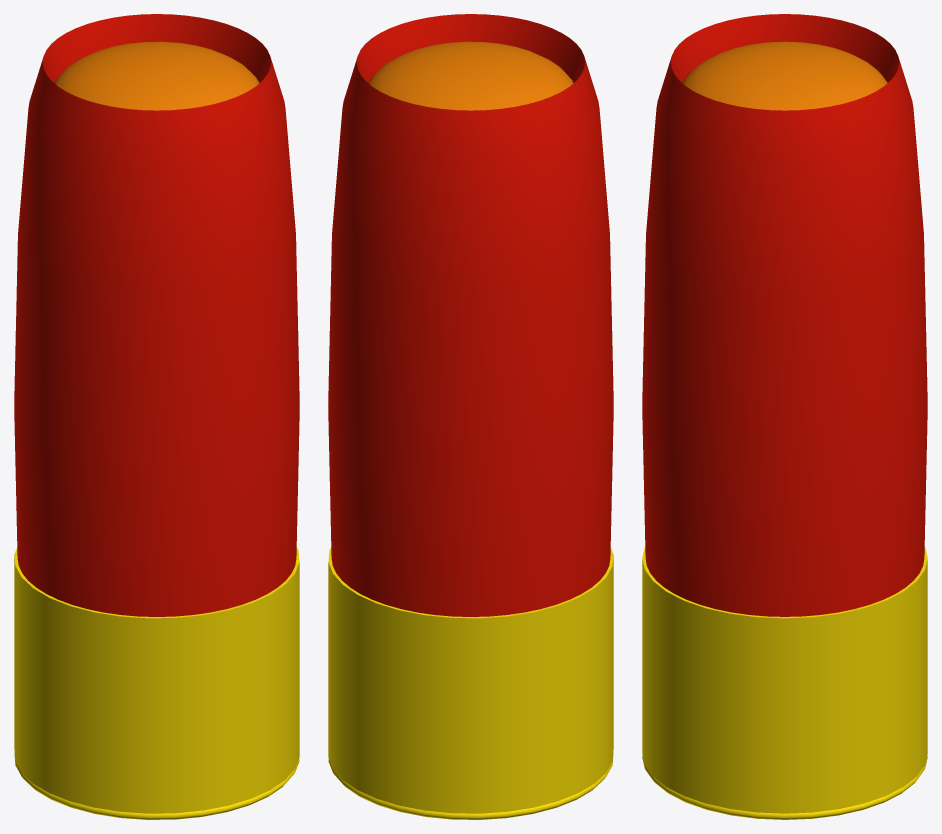
Rendered from single 12 gauge.glb.
The picture shows the model from 3 angles, left to right: view 1: azimuth 30°, elevation 25°; view 2: azimuth 150°, elevation 25°; view 3: azimuth 270°, elevation 25°; orthographic projection.
Visible parts, largest first — view 1: main 12 gauge; view 2: main 12 gauge; view 3: main 12 gauge.
Boxes of the visible parts, box(x1,y1,x2,y2) form: main 12 gauge: box(14, 14, 299, 819); main 12 gauge: box(328, 14, 613, 819); main 12 gauge: box(642, 14, 927, 819).
Bounding box in the file's own units: 2 × 5.51 × 2.
